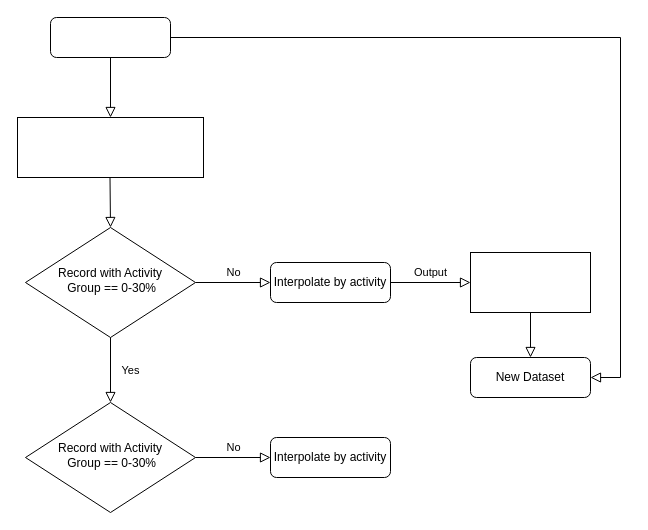
Some shapes in this 648 by 530 pixel diagram are drawn without their labels. The shapes that lost their labels are listed below. From the top down, each one's centre as x and y in pixels, then its label:
At pixel 110 37: "Dataset".
At pixel 110 147: "Do the counting for all groups & filter out the data that need interpolation".
At pixel 530 282: "Interpolated data".
